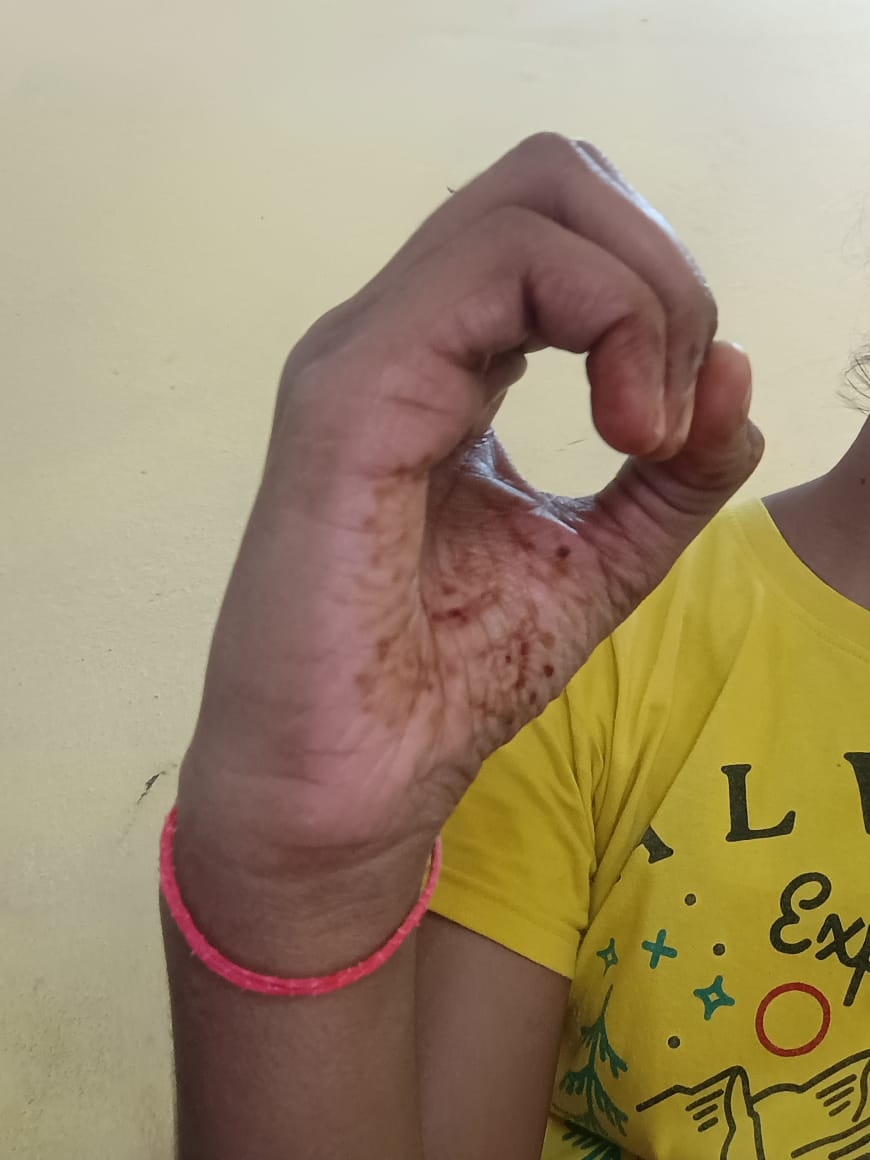O: (223, 131, 764, 778)
